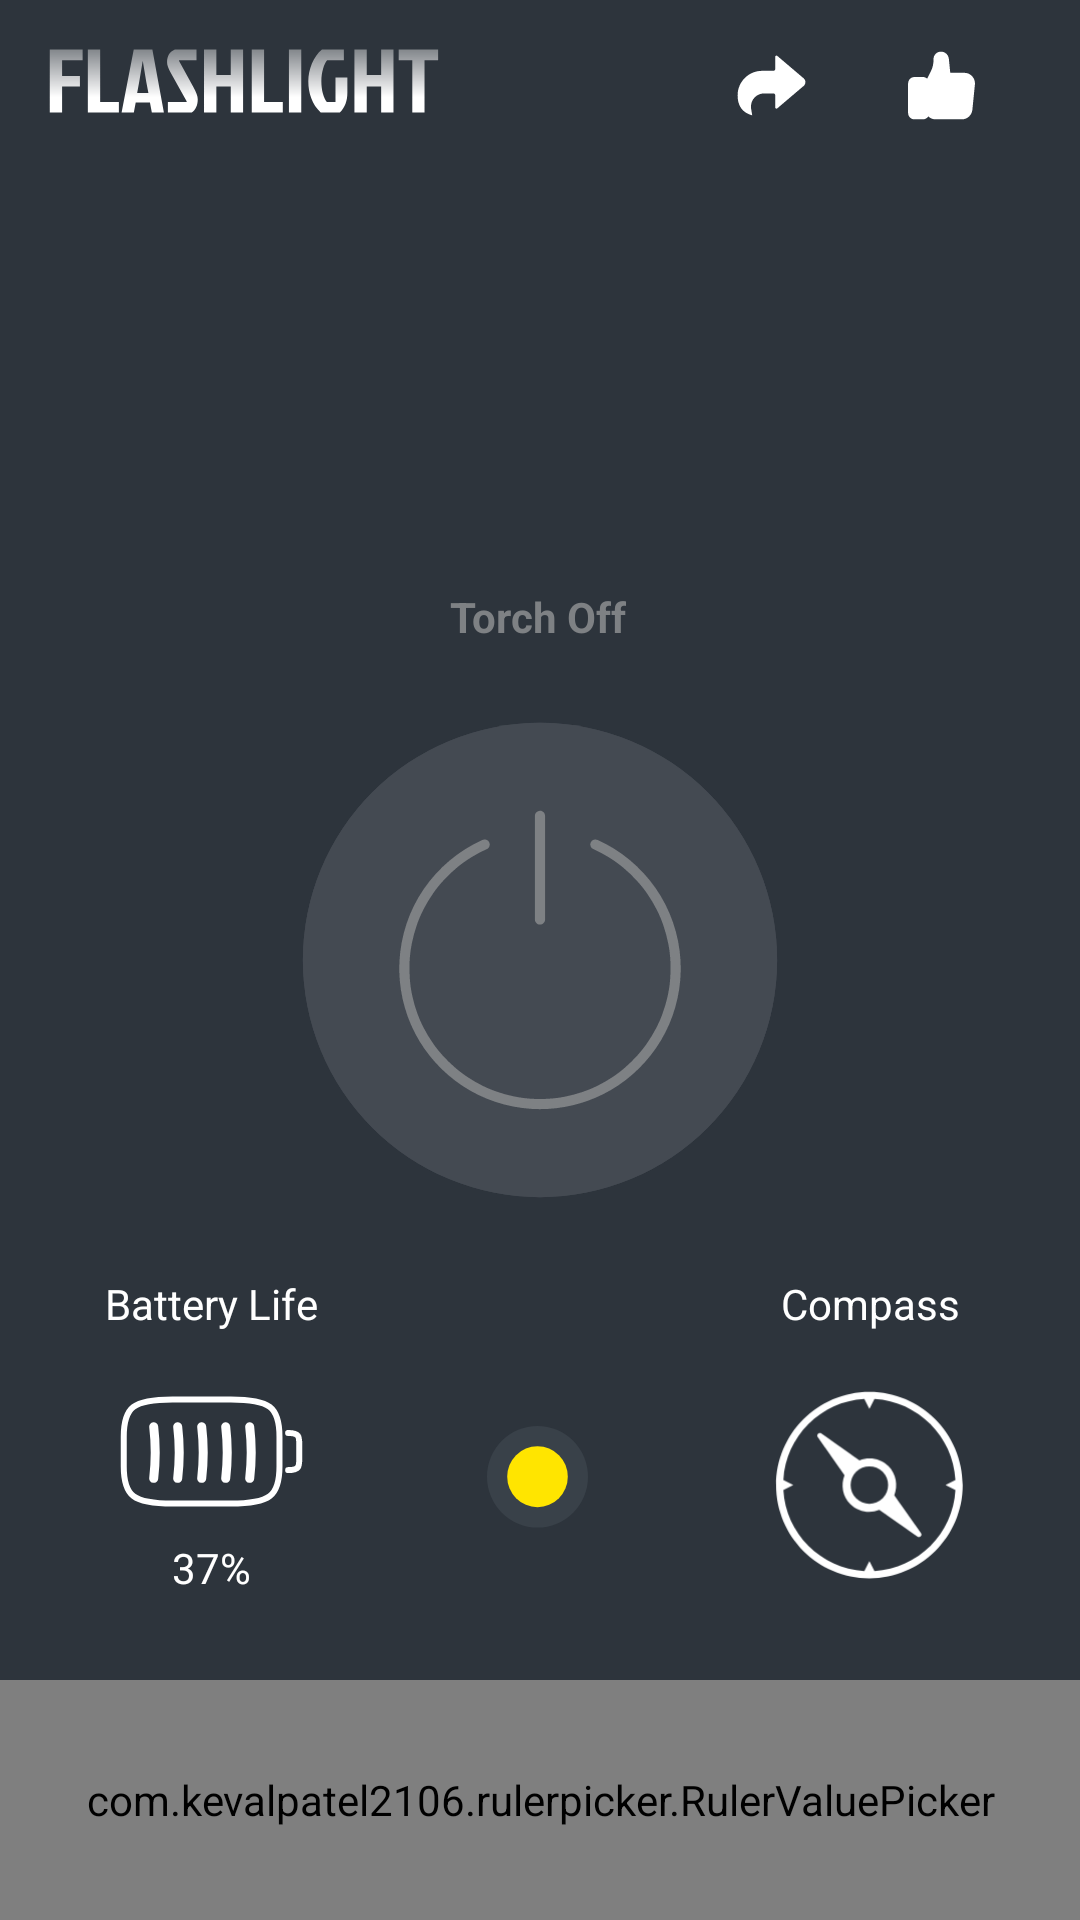

Screen size 1080 x 1920. Icon name, then its box in pixels as {"left": x1, "top": y1, "right": x2, "bottom": y2}:
rating thumb: {"left": 908, "top": 51, "right": 975, "bottom": 120}
share: {"left": 737, "top": 55, "right": 806, "bottom": 116}
